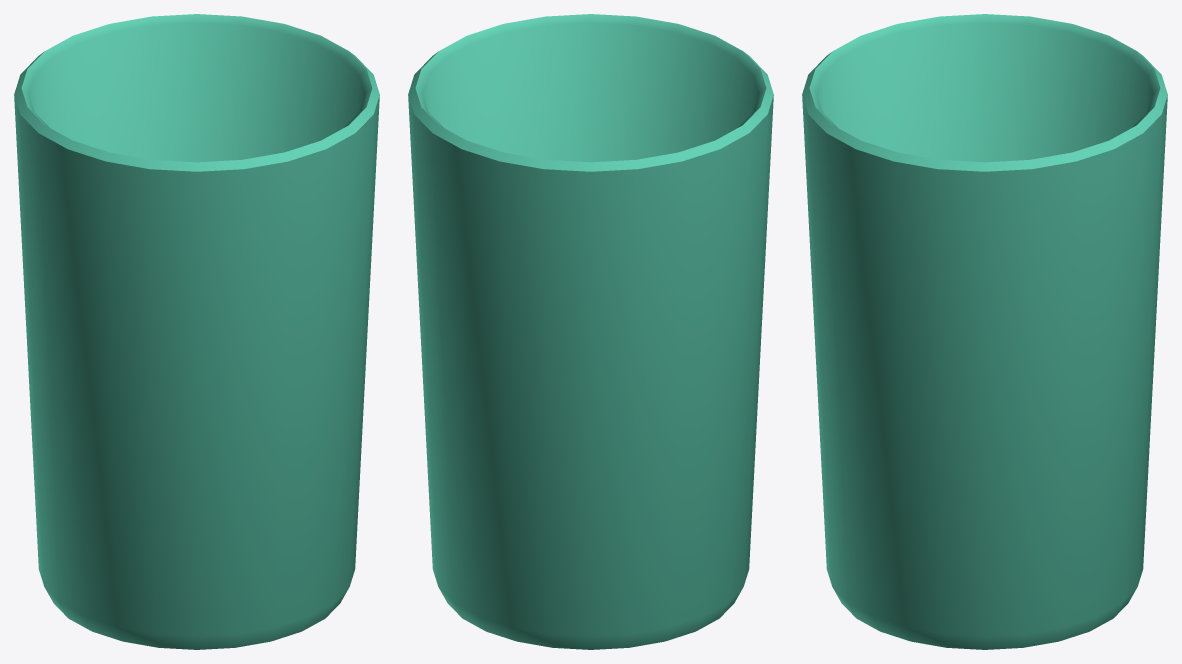
File: copo_colorido.glb
The picture shows the model from 3 angles, left to right: view 1: azimuth 30°, elevation 25°; view 2: azimuth 150°, elevation 25°; view 3: azimuth 270°, elevation 25°; orthographic projection.
Parts seen in each view (by area): view 1: copo_colorido; view 2: copo_colorido; view 3: copo_colorido.
Part boxes in pixels (x1,y1,x2,y2): copo_colorido: [14, 14, 379, 649]; copo_colorido: [408, 14, 773, 649]; copo_colorido: [802, 14, 1167, 649].
Size of the model in its own units: 0.074 by 0.1114 by 0.074.
1 material, 1 textured.
